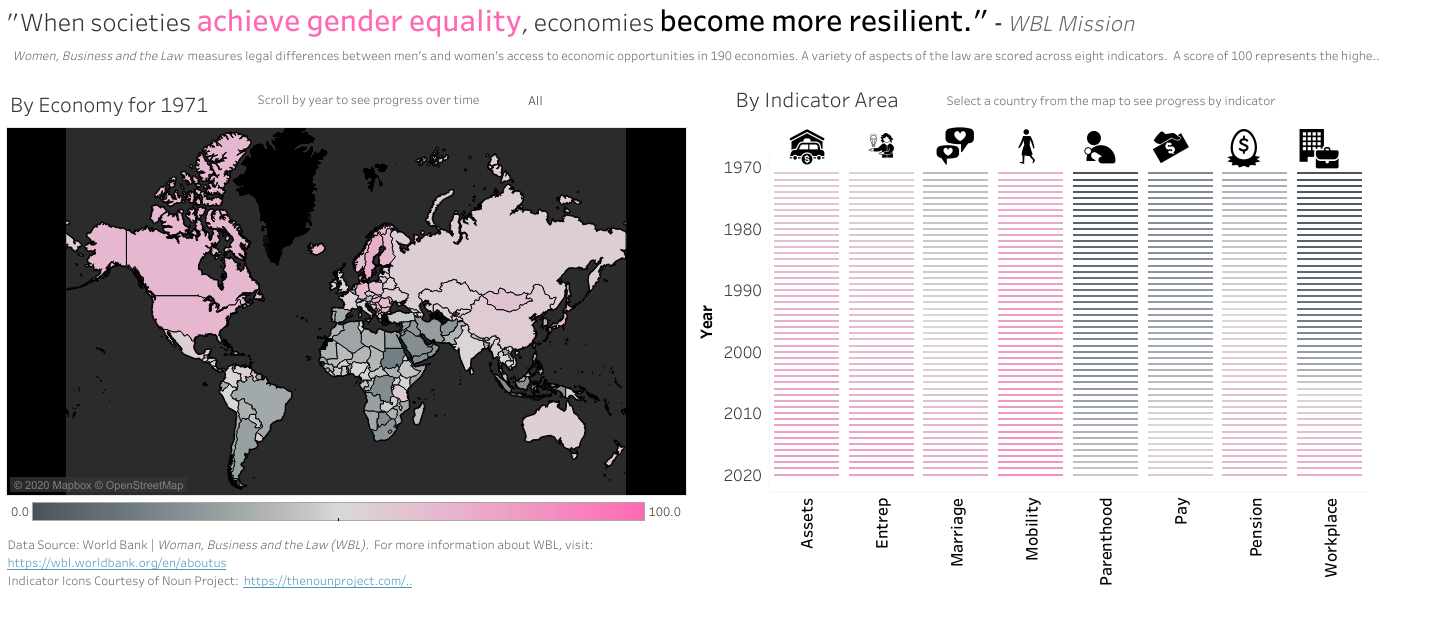

This screenshot's page, from the dashboard's own definition file:
{"tool":"tableau","page":{"name":"Dashboard 1","canvas":[1000,1000],"units":"permille","ordinal":0},"visuals":[{"type":"worksheet","box":[2.4,5,991.9,52]},{"type":"worksheet","box":[7.3,61.9,956.1,53.2]},{"type":"worksheet","title":"Space","mark":"Automatic","box":[4.1,134.9,476,662.1]},{"type":"worksheet","box":[511.8,137.4,153.8,43.3]},{"type":"worksheet","box":[178.2,139.8,191.2,38.4]},{"type":"worksheet","box":[659.1,141.1,272.6,37.1]},{"type":"worksheet","title":"Space","mark":"Automatic","param":"[federated.004y5xp0q6b0k11ahdv7q1nurpe4].[none:WBL Report Year:ok]","box":[367,146,93.6,45.8]},{"type":"worksheet","param":"Image/noun_entrepreneur_2909308.png","box":[601.3,201.7,43.1,65.6]},{"type":"worksheet","param":"Image/noun_marriage_1736570.png","box":[651.8,201.7,43.9,66.8]},{"type":"worksheet","param":"Image/noun_Walking Woman_1767211.png","box":[702.2,201.7,43.1,65.6]},{"type":"worksheet","param":"Image/noun_Assets_3155327.png","box":[549.2,205.5,42.3,61.9]},{"type":"worksheet","param":"Image/noun_Parenthood_29241.png","box":[753.5,205.5,44.8,63.1]},{"type":"worksheet","param":"Image/noun_pay_195163.png","box":[803.9,205.5,43.1,63.1]},{"type":"worksheet","param":"Image/noun_retirement_2584617.png","box":[855.2,206.7,43.9,63.1]},{"type":"worksheet","param":"Image/noun_Workplace_2424471.png","box":[906.4,206.7,45.6,64.4]},{"type":"worksheet","title":"TimeType","mark":"GanttBar","rows":["WBL Report Year"],"cols":["Question Category"],"box":[480.1,247.5,474.4,704.2]},{"type":"worksheet","title":"Space","mark":"Automatic","param":"[federated.004y5xp0q6b0k11ahdv7q1nurpe4].[usr:Calculation_92534965520150531:qk]","box":[4.9,800.7,474.4,37.1]},{"type":"worksheet","box":[3.2,846.5,499.6,111.4]}]}

Visuals, with their boxes on the dashboard's canvas, which has no fixed pixel size, in thousandths of its width and height (x1, y1, x2, y2). These are canvas units, not pixel positions in the 1431x621 screenshot, which may show the page scaled, cropped or inside an application window:
worksheet: [2,5,994,57]
worksheet: [7,62,963,115]
"Space" worksheet: [4,135,480,797]
worksheet: [512,137,666,181]
worksheet: [178,140,369,178]
worksheet: [659,141,932,178]
"Space" worksheet: [367,146,461,192]
worksheet: [601,202,644,267]
worksheet: [652,202,696,268]
worksheet: [702,202,745,267]
worksheet: [549,206,592,267]
worksheet: [754,206,798,269]
worksheet: [804,206,847,269]
worksheet: [855,207,899,270]
worksheet: [906,207,952,271]
"TimeType" worksheet (GanttBar marks): [480,248,954,952]
"Space" worksheet: [5,801,479,838]
worksheet: [3,846,503,958]
